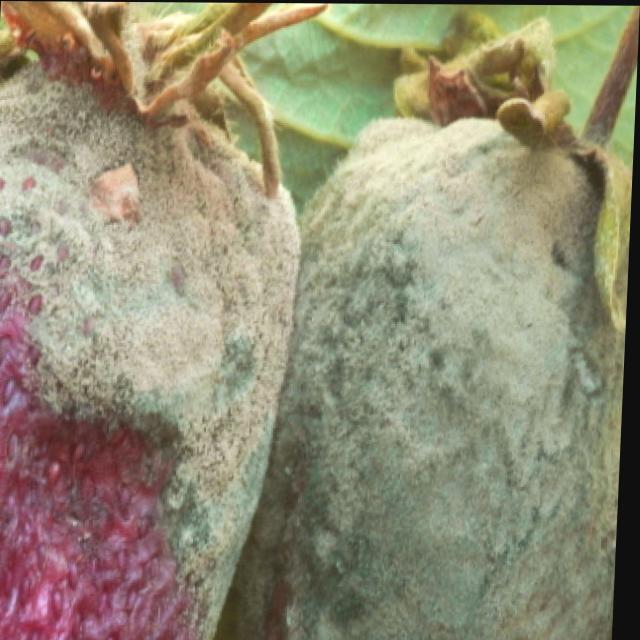Gray Mold: (237, 55, 635, 640), (0, 50, 308, 640)
